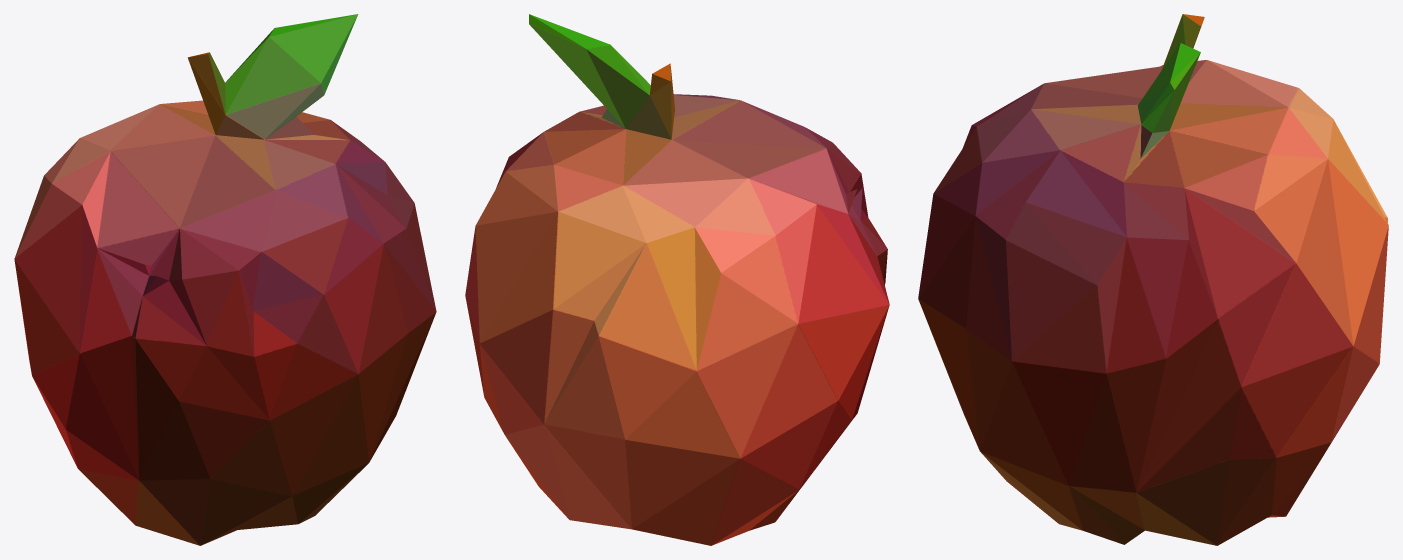
File: Apple.fbx
3 renders of one model, left to right at view 1: azimuth 30°, elevation 25°; view 2: azimuth 150°, elevation 25°; view 3: azimuth 270°, elevation 25°, orthographic. The views are drawn at different scales.
Visible parts, largest first — view 1: Mesh_0; view 2: Mesh_0; view 3: Mesh_0.
Part boxes in pixels (box(x1,y1,x2,y2)): Mesh_0: box(14, 14, 436, 545); Mesh_0: box(465, 14, 889, 545); Mesh_0: box(918, 14, 1388, 545).
Size of the model in its own units: 1.46 by 1.8 by 1.5.
Materials: 1 (1 with a texture image).
